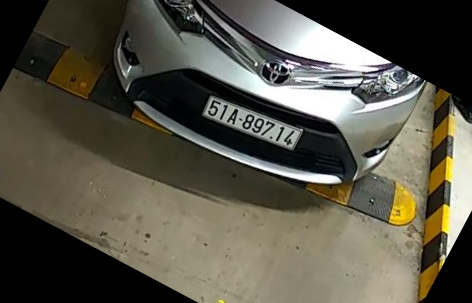plate: (203, 95, 305, 158)
